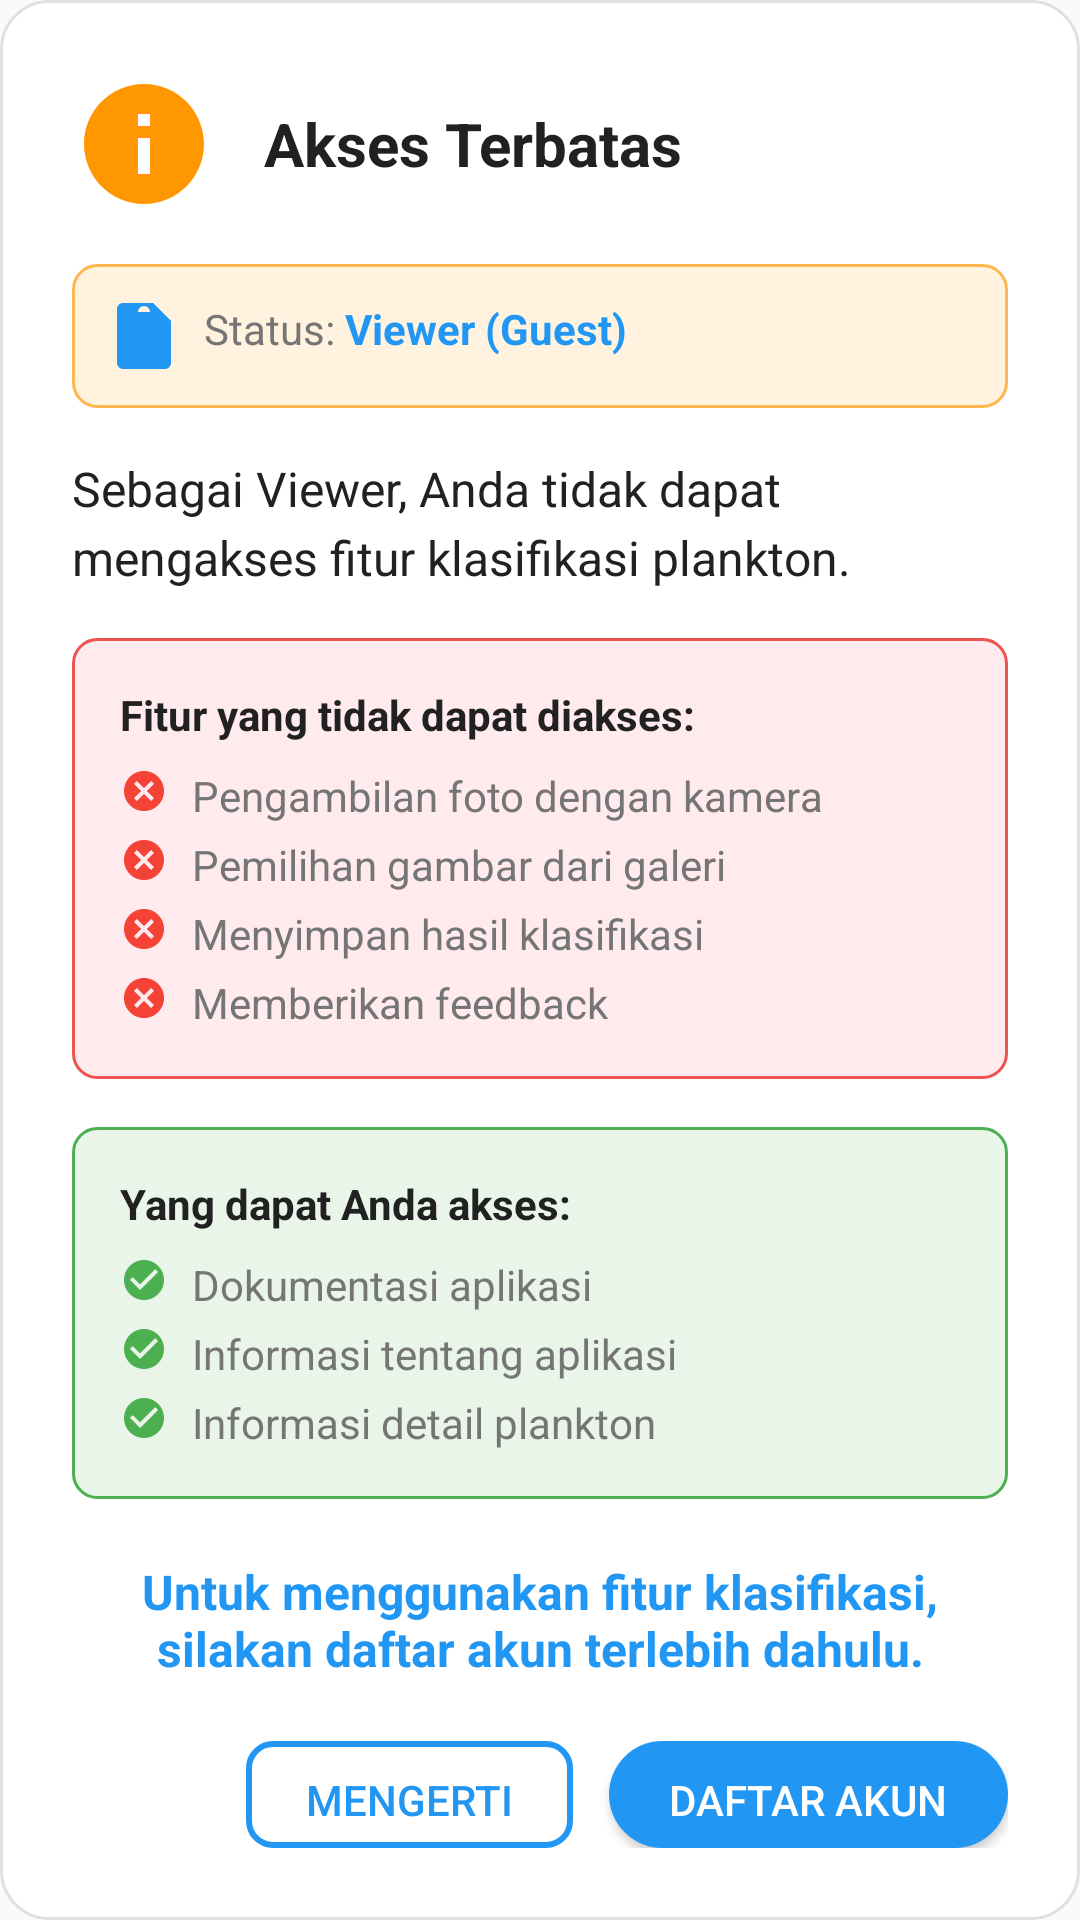

Screen size 1080×1920. Icon name, then its box in pixels as (x1, y1, x2, y2):
Allowed: (124, 1260, 164, 1300), (124, 1329, 164, 1369), (124, 1398, 164, 1438)
Restricted: (124, 771, 164, 811), (124, 840, 164, 880), (124, 909, 164, 949), (124, 978, 164, 1018)
